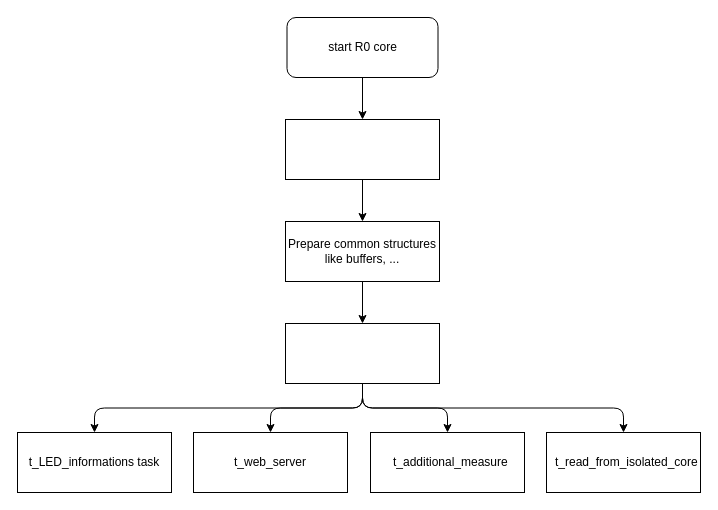
This 718x510 diagram has some shape labels left out. Each missing label, with the centre of its shape:
"Config freeRTOS" belongs at [362,149].
"Run freeRTOS tasks" belongs at [362,353].
